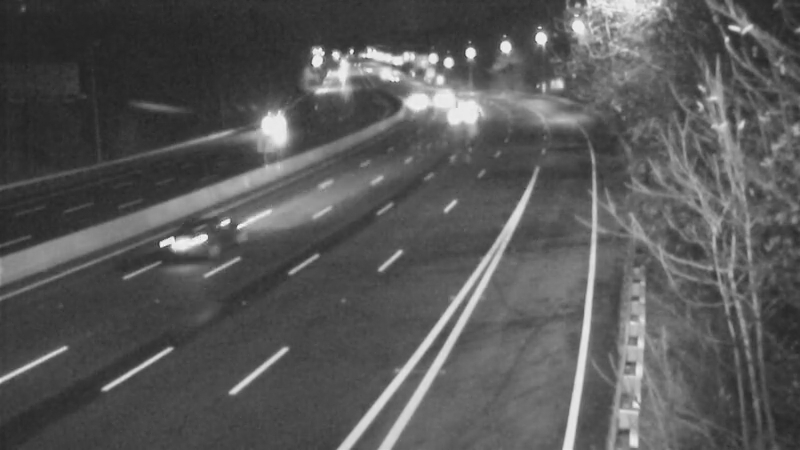vehicle: (158, 201, 238, 281), (365, 50, 415, 100), (418, 72, 468, 122), (380, 75, 430, 125), (443, 79, 493, 129), (437, 89, 487, 139), (245, 99, 295, 149)
